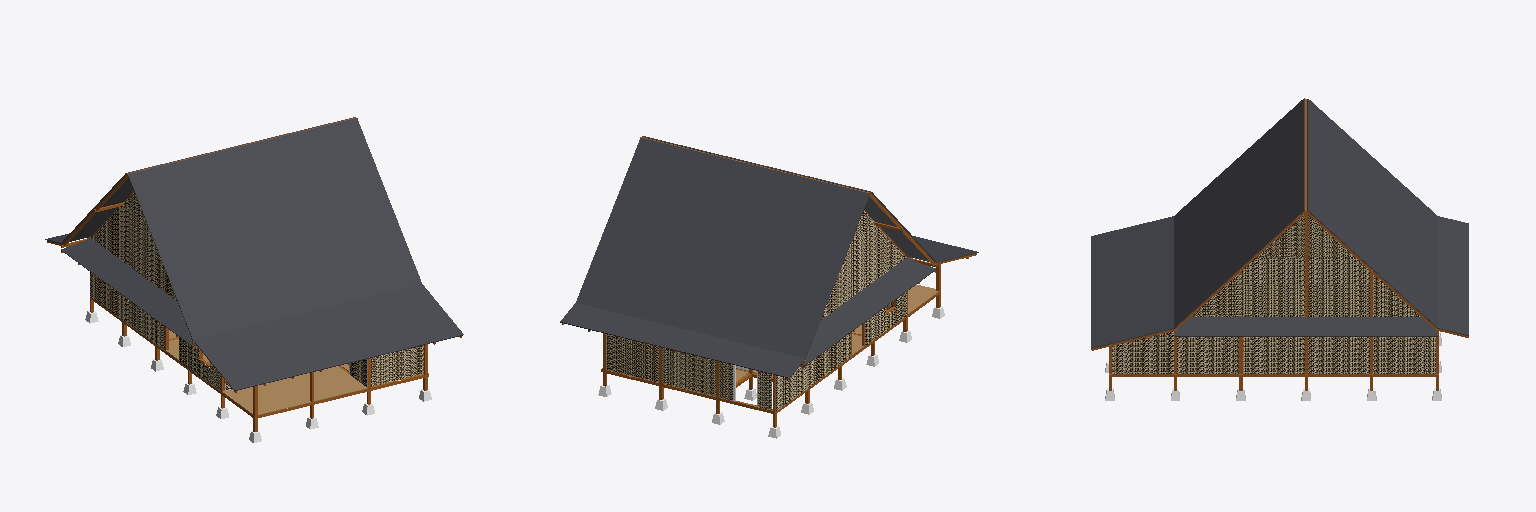
3 renders of one model, left to right at view 1: azimuth 30°, elevation 25°; view 2: azimuth 150°, elevation 25°; view 3: azimuth 270°, elevation 25°, orthographic.
Visible parts, largest first — view 1: Object.1; view 2: Object.1; view 3: Object.1.
Boxes of the visible parts, x1,y1,x2,y2 form: Object.1: [45, 117, 463, 442]; Object.1: [560, 136, 978, 438]; Object.1: [1091, 98, 1468, 400].
Bounding box in the file's own units: 8193 × 6852 × 11582.
Materials: 5 (1 with a texture image).